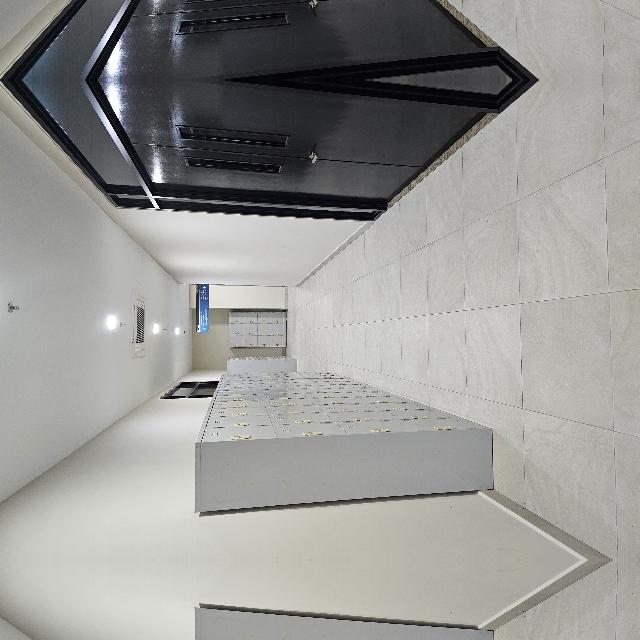door: (358, 177, 479, 521), (358, 599, 479, 640)
obstacle: (43, 272, 191, 574), (43, 545, 191, 640), (214, 307, 254, 369)
